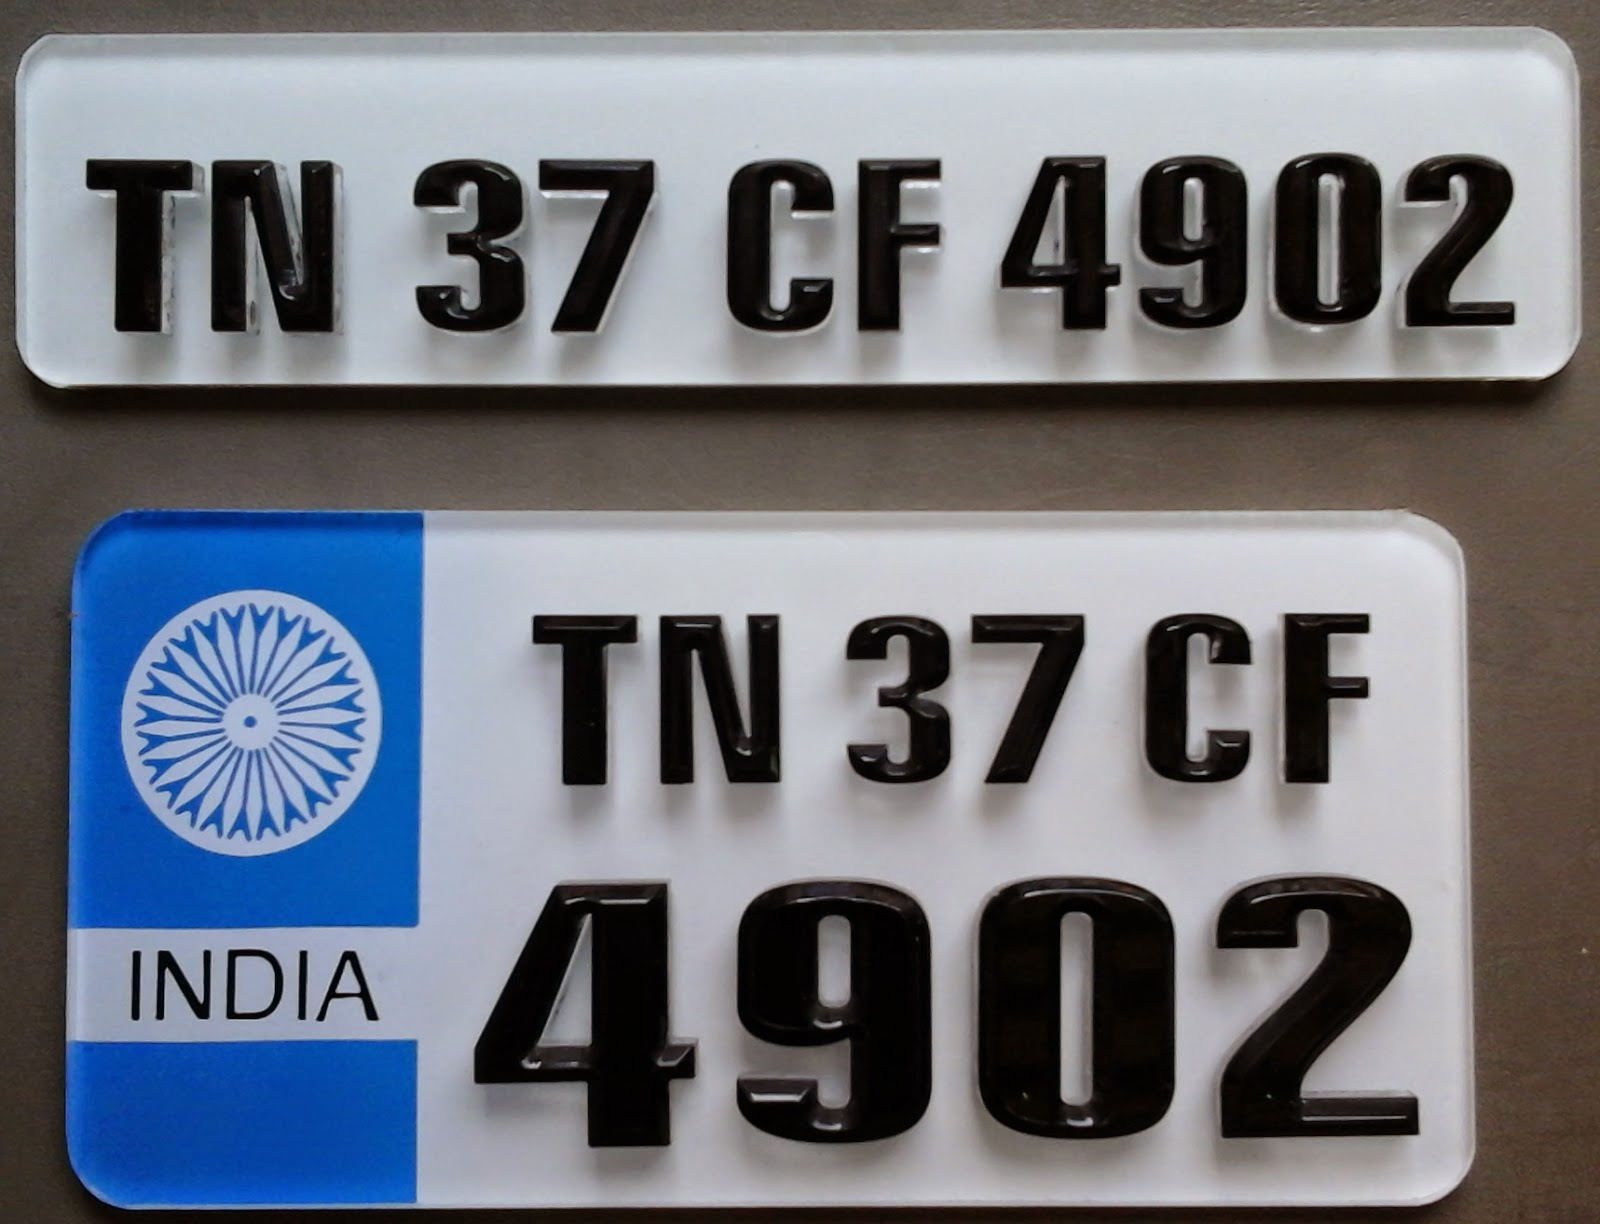number_plate: (63, 509, 1480, 1213), (13, 32, 1581, 386)
